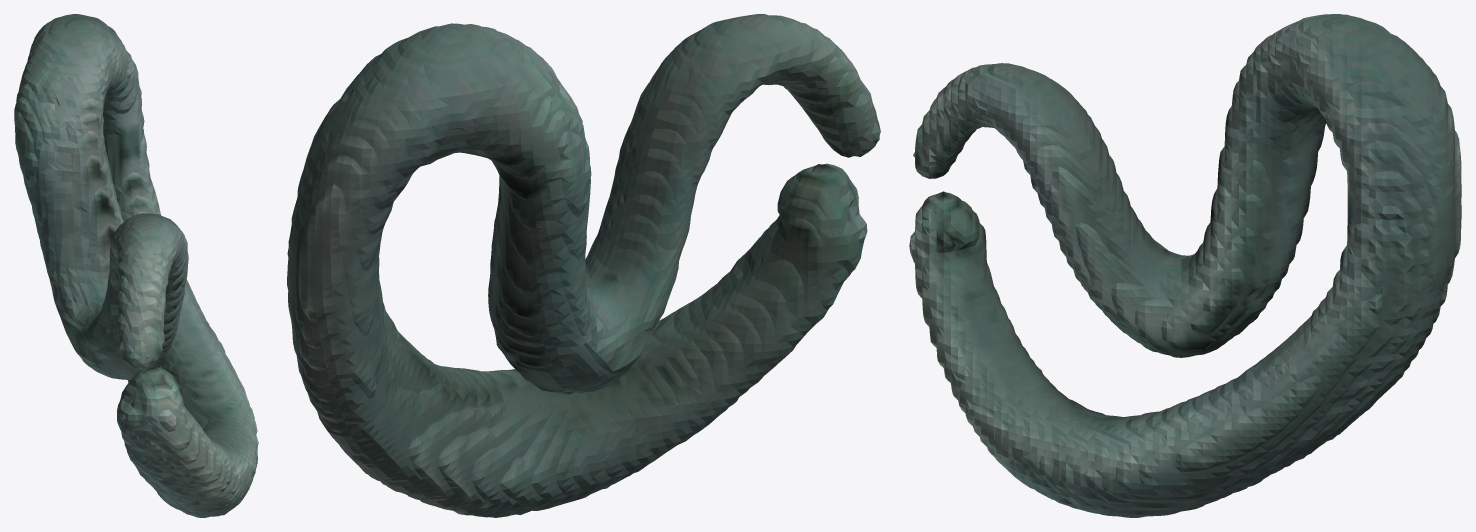
The picture shows the model from 3 angles, left to right: view 1: azimuth 30°, elevation 25°; view 2: azimuth 150°, elevation 25°; view 3: azimuth 270°, elevation 25°; orthographic projection. The views are drawn at different scales.
Visible parts, largest first — view 1: world; view 2: world; view 3: world.
Boxes of the visible parts, box(x1,y1,x2,y2) form: world: box(14, 14, 258, 517); world: box(287, 14, 880, 517); world: box(909, 14, 1461, 517).
Bounding box in the file's own units: 0.5812 × 1 × 1.05.
